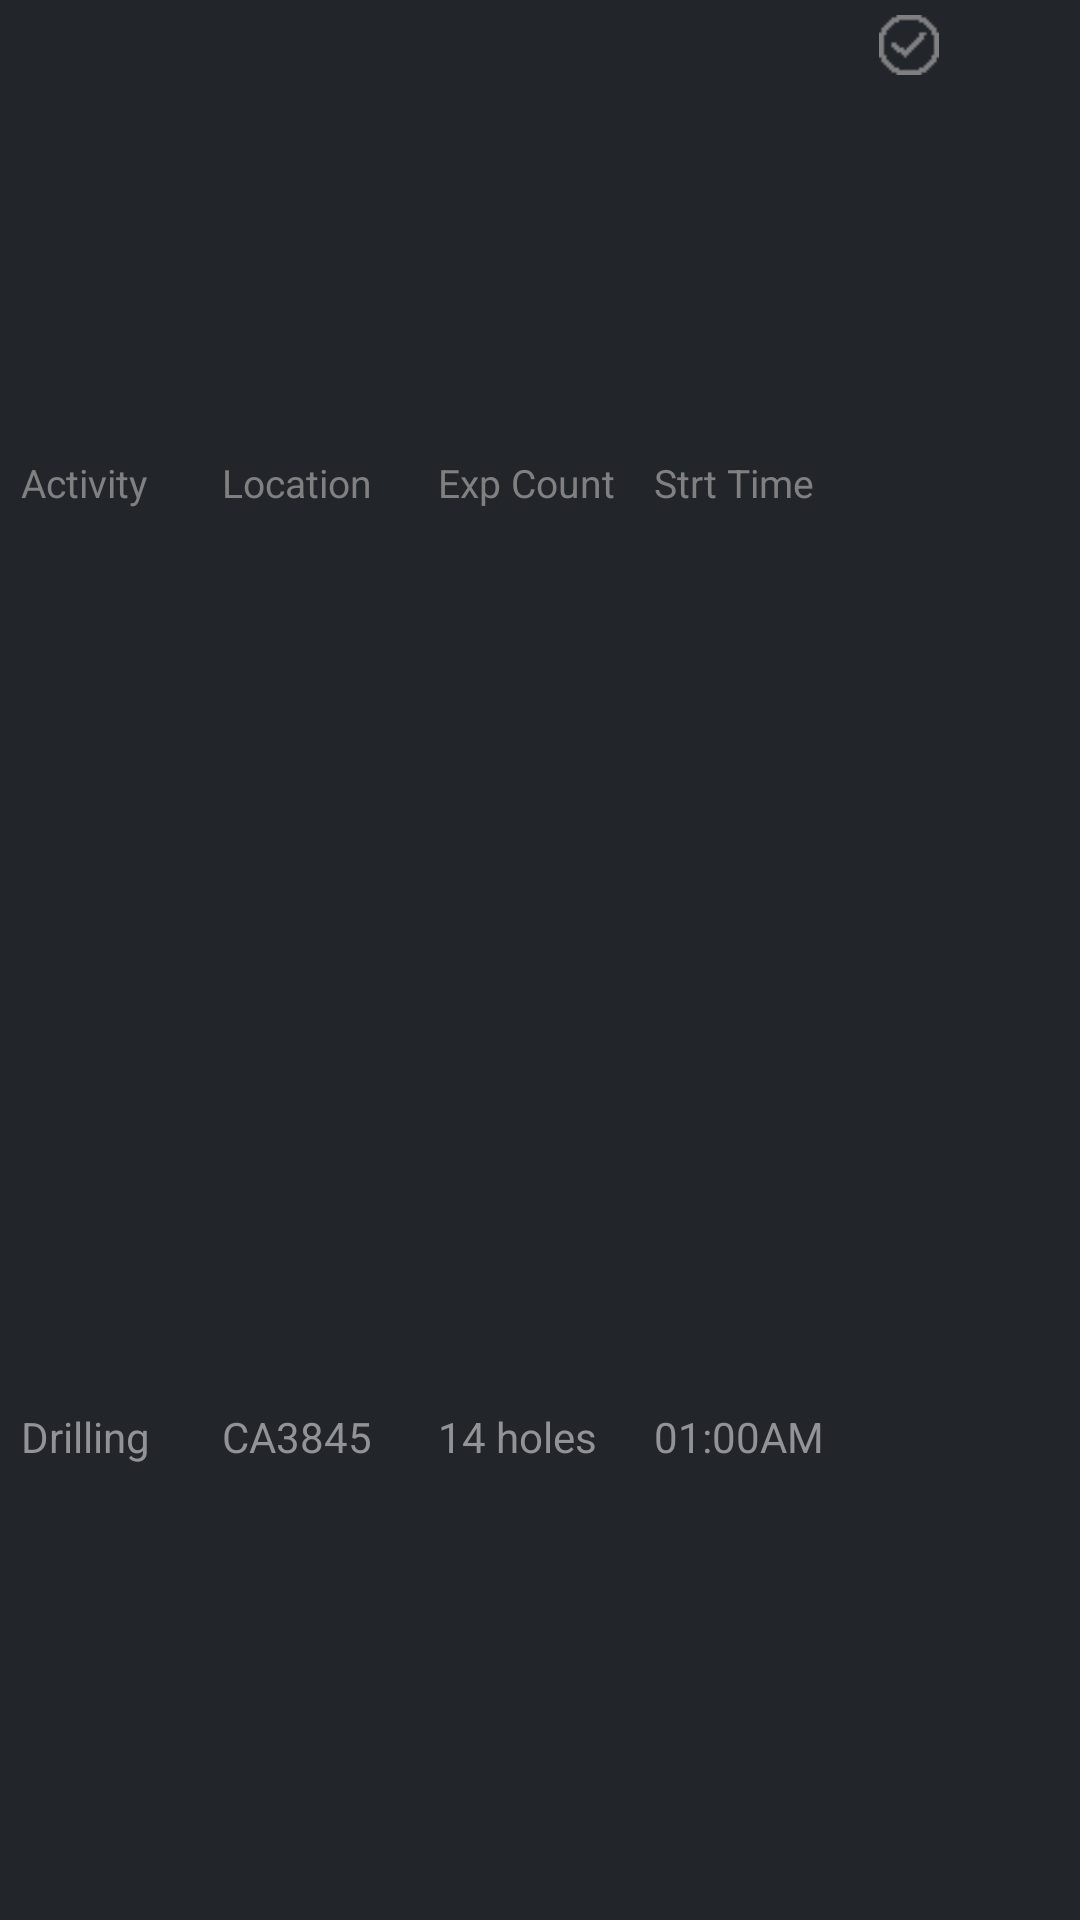

Locate icon controls on the screen. Image size 1080×1920, boxes as box=[x1, y1, x2, y2].
success: box=[879, 15, 939, 75]
